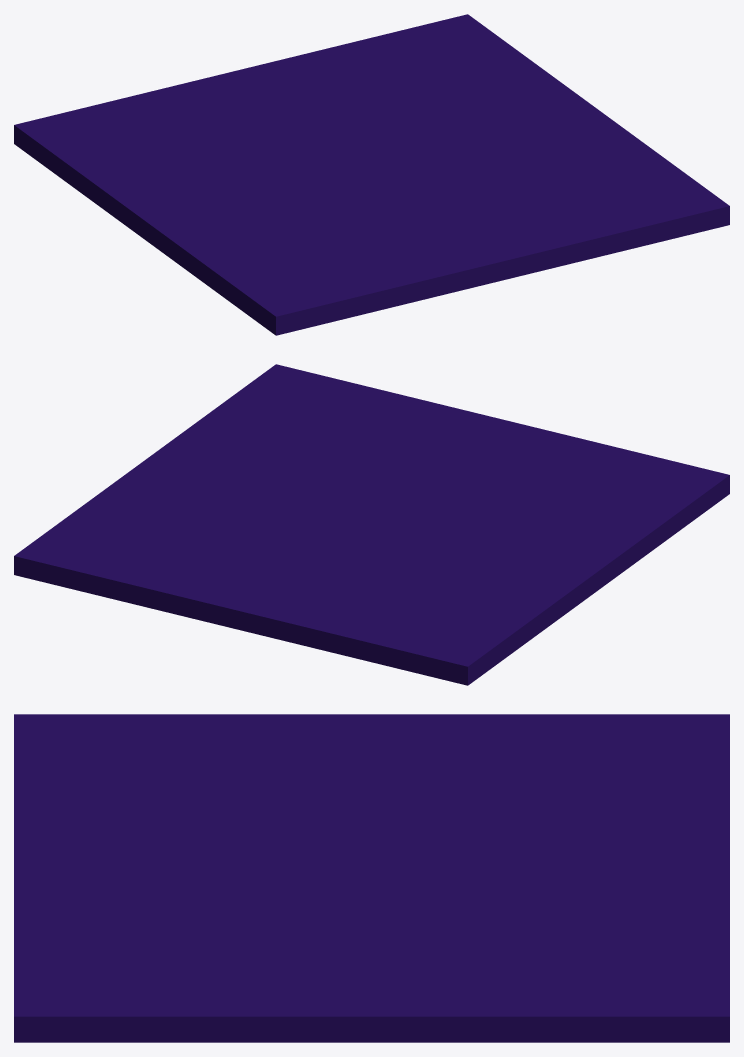
Rendered from Floor.fbx.
3 renders of one model, top to bottom at view 1: azimuth 30°, elevation 25°; view 2: azimuth 150°, elevation 25°; view 3: azimuth 270°, elevation 25°, orthographic. The views are drawn at different scales.
Parts seen in each view (by area): view 1: Floor; view 2: Floor; view 3: Floor.
Part boxes in pixels (left/top/right/bottom): Floor: left=14, top=14, right=729, bottom=335; Floor: left=14, top=364, right=729, bottom=685; Floor: left=14, top=714, right=729, bottom=1042.
Size of the model in its own units: 50 by 2 by 50.
1 material, 1 textured.
